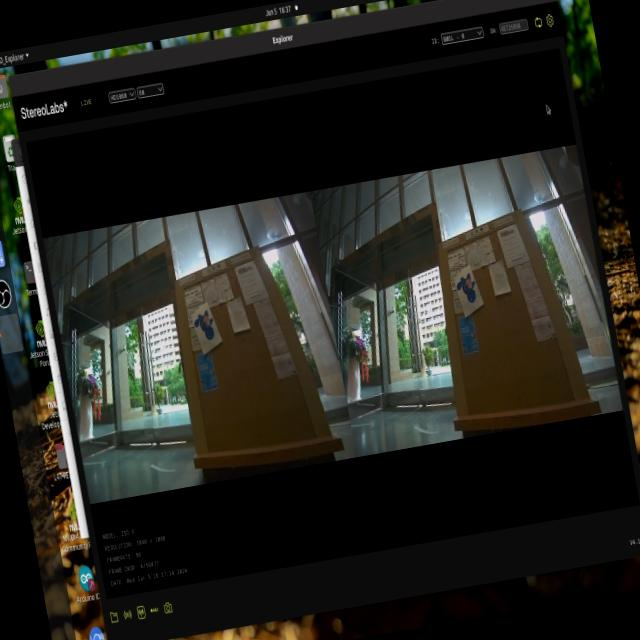blue: (186, 302, 224, 354), (446, 270, 487, 310)
